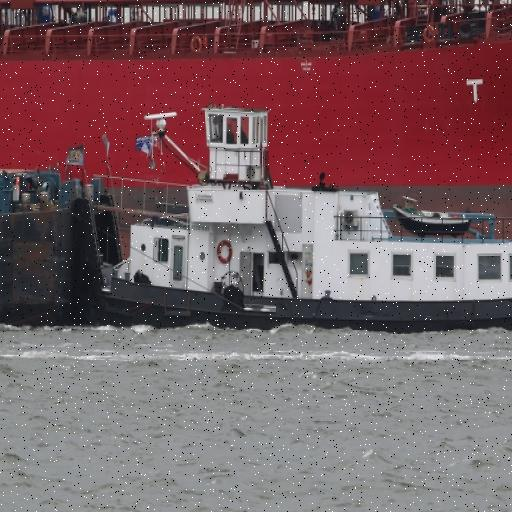tugboat: (70, 83, 512, 345)
